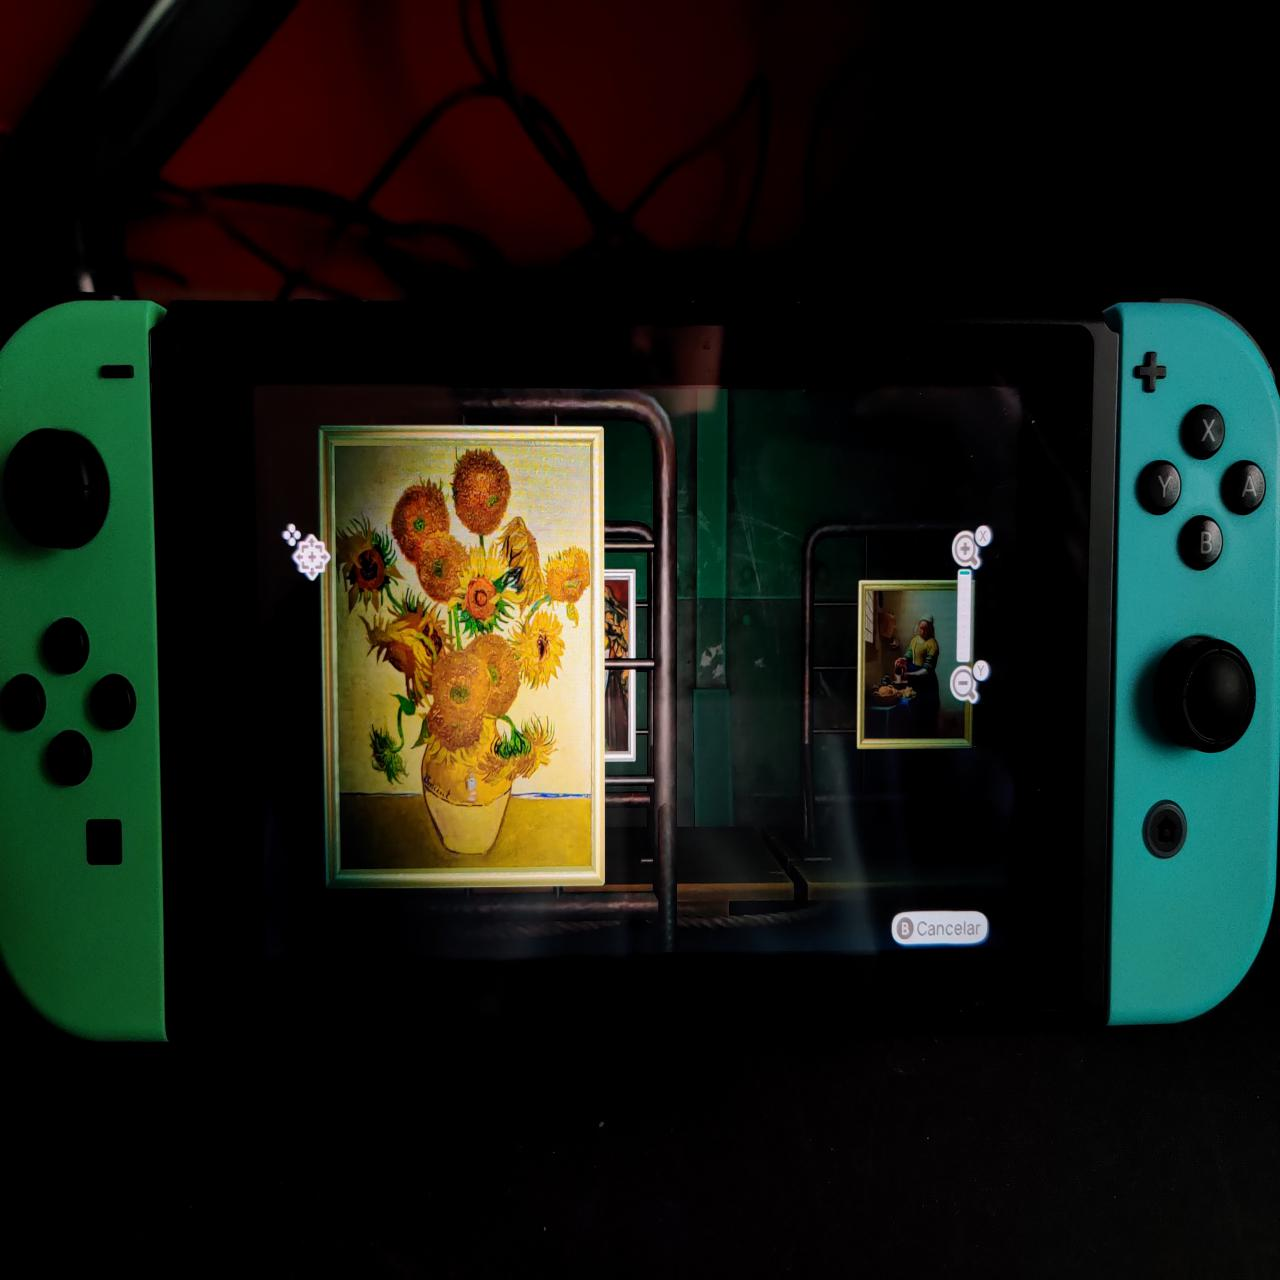MilkmaidFake: (869, 595, 967, 731)
Sunflower: (339, 448, 595, 872)
